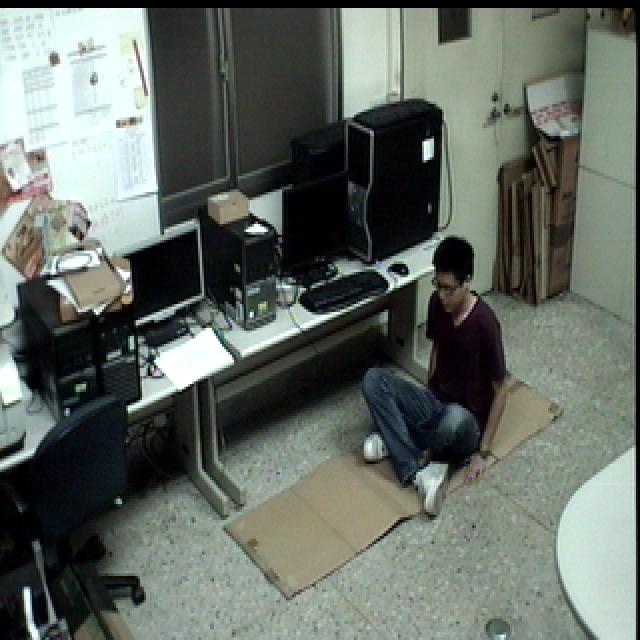sit: (356, 229, 515, 524)
